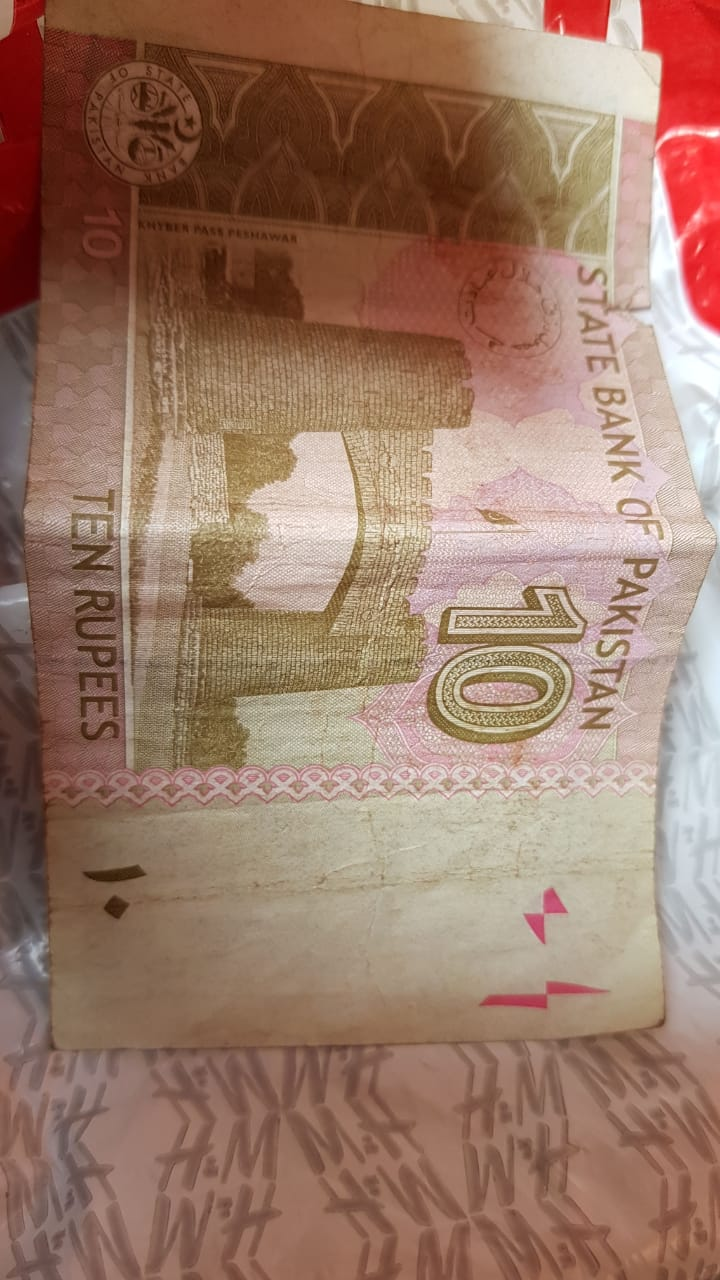10 rupee: (30, 14, 698, 1038)
